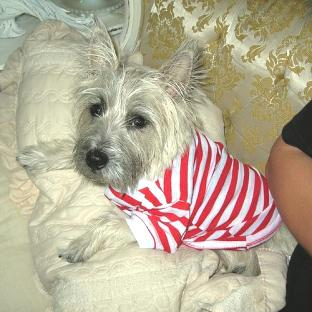Animal: (17, 23, 295, 274)
